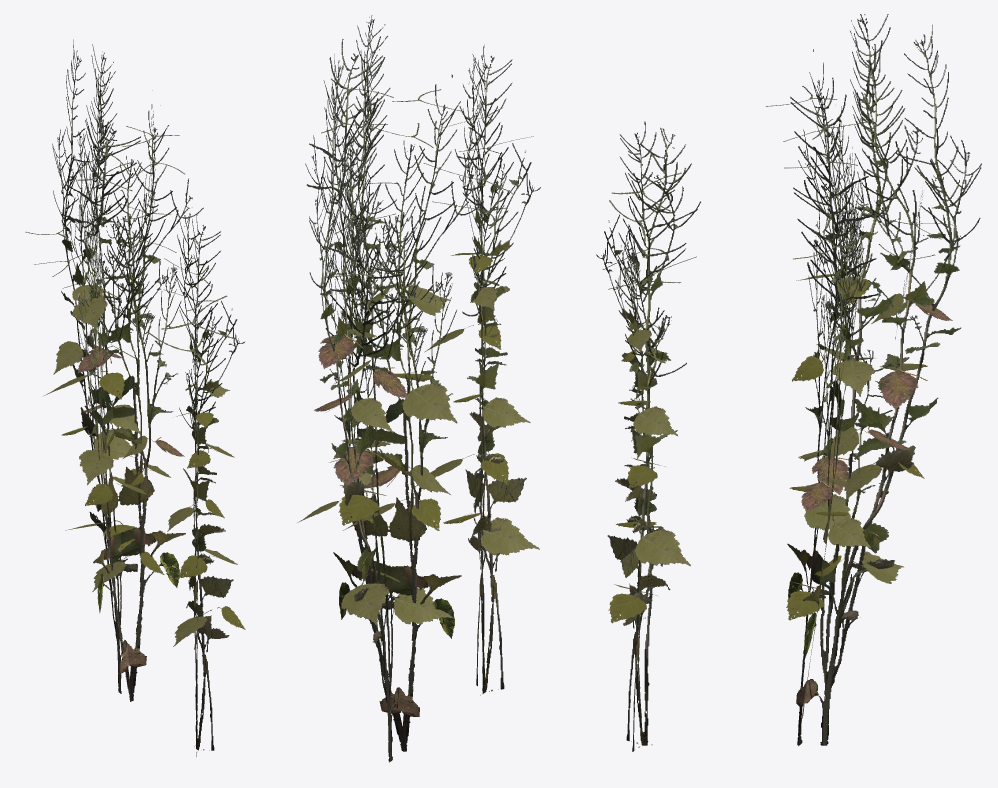
Rendered from SM_Plant_Forest_13.fbx.
The picture shows the model from 3 angles, left to right: view 1: azimuth 30°, elevation 25°; view 2: azimuth 150°, elevation 25°; view 3: azimuth 270°, elevation 25°; orthographic projection. The views are drawn at different scales.
Parts seen in each view (by area): view 1: SM_Plant_Forest_13; view 2: SM_Plant_Forest_13; view 3: SM_Plant_Forest_13.
Boxes of the visible parts, x1=… form: SM_Plant_Forest_13: x1=25, y1=39, x2=245, y2=756; SM_Plant_Forest_13: x1=297, y1=15, x2=540, y2=762; SM_Plant_Forest_13: x1=596, y1=14, x2=981, y2=751.
Bounding box in the file's own units: 25.95 × 49.81 × 100.
1 material, 1 textured.
